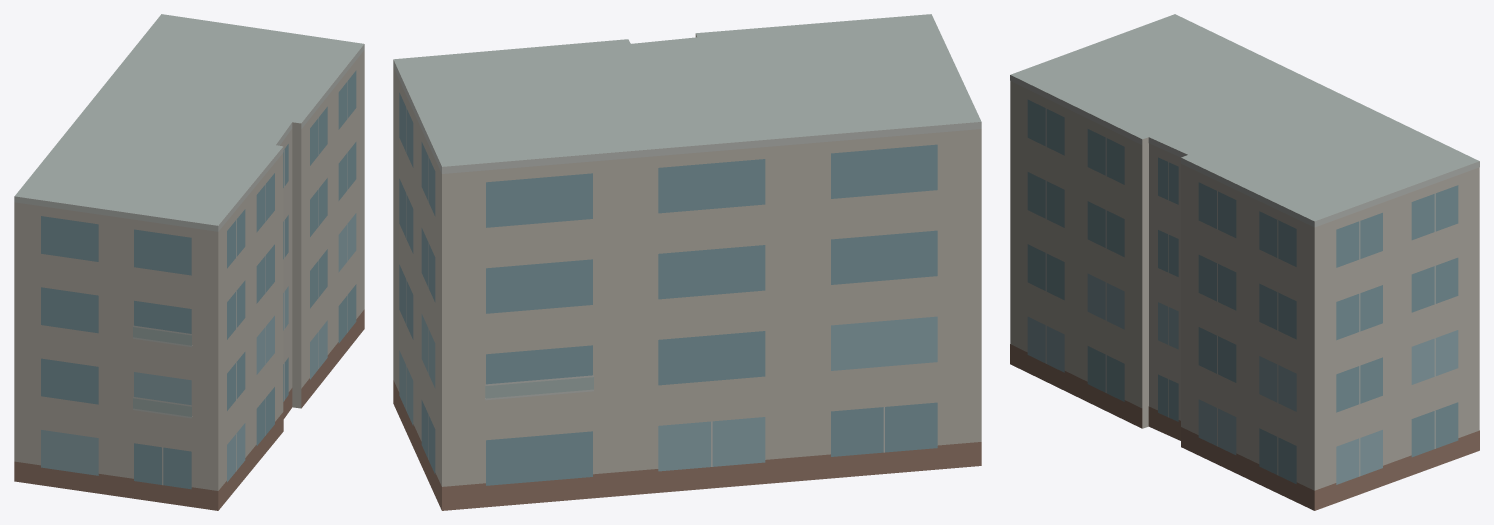
File: survey-upis-32942624.glb
The picture shows the model from 3 angles, left to right: view 1: azimuth 30°, elevation 25°; view 2: azimuth 150°, elevation 25°; view 3: azimuth 270°, elevation 25°; orthographic projection. The views are drawn at different scales.
Parts seen in each view (by area): view 1: survey-upis-32942624.tmp; view 2: survey-upis-32942624.tmp; view 3: survey-upis-32942624.tmp.
Part boxes in pixels (x1,y1,x2,y2): survey-upis-32942624.tmp: (14,14,364,510); survey-upis-32942624.tmp: (393,14,981,510); survey-upis-32942624.tmp: (1010,14,1479,510).
Bounding box in the file's own units: 18 × 11.7 × 17.21.
